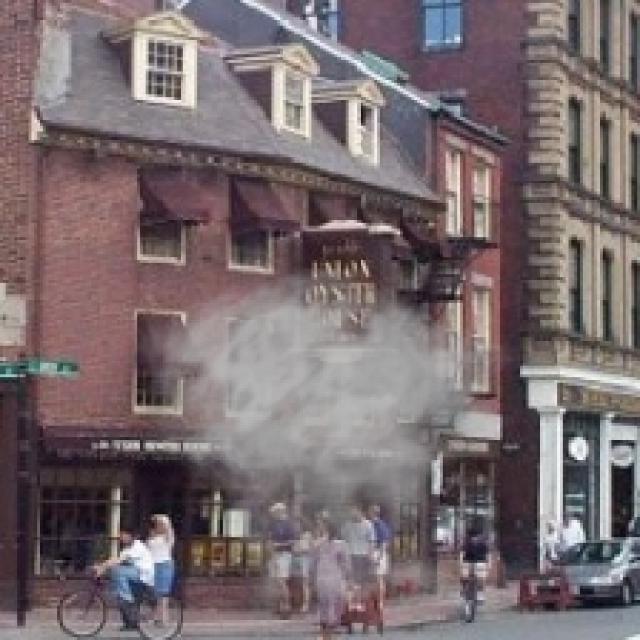Smoke: (135, 266, 520, 638)
